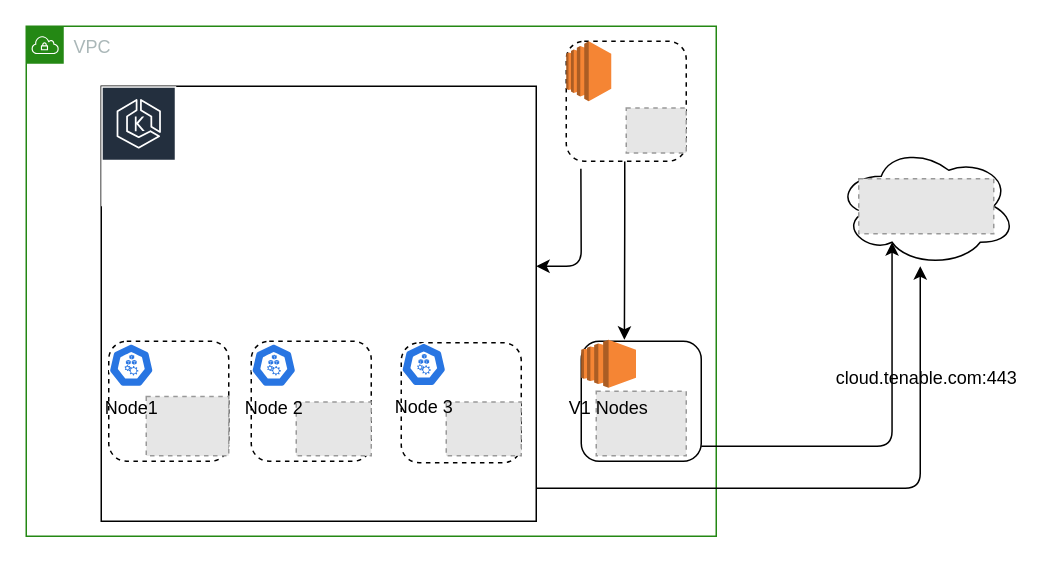
The diagram is 1058 pixels wide and 563 high, and some of its shapes have lost their labels. Grey dashed boxes stand in for pictures. The centre of each missing label's shape, as x and y in pixels:
Amazon EKS: the point at 138,145
Bastion: the point at 588,70
